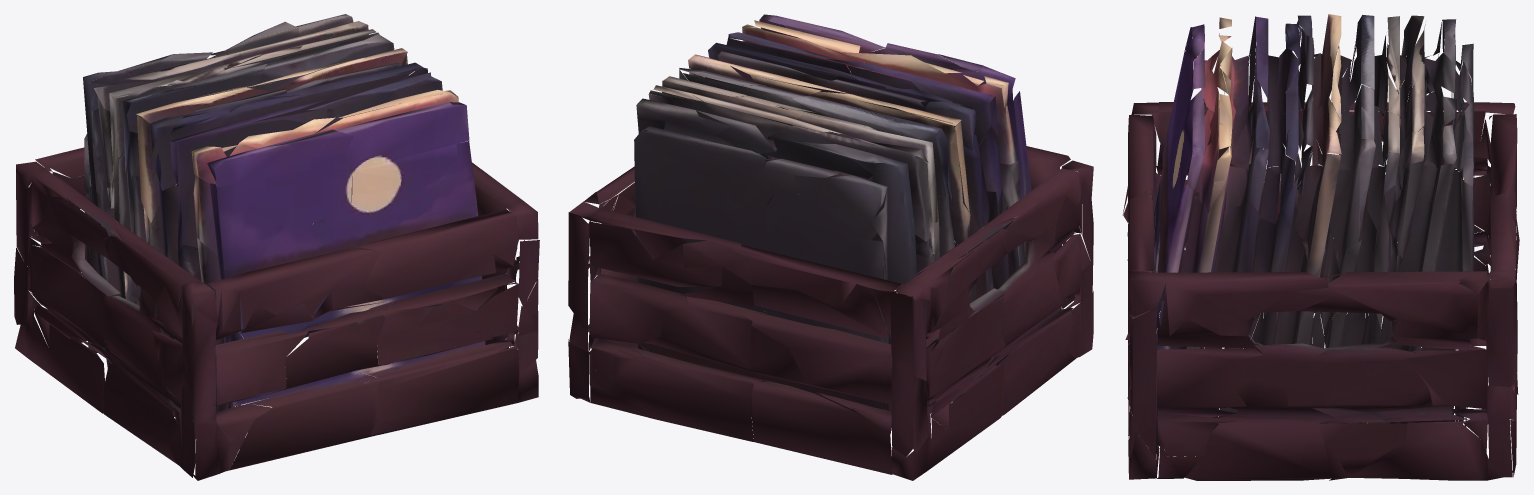
Rendered from vinyl_crate.glb.
3 renders of one model, left to right at view 1: azimuth 30°, elevation 25°; view 2: azimuth 150°, elevation 25°; view 3: azimuth 270°, elevation 25°, orthographic. The views are drawn at different scales.
Parts seen in each view (by area): view 1: tripo_node_80032b37-c0cf-483d-9a40-2ff980cbf5e0; view 2: tripo_node_80032b37-c0cf-483d-9a40-2ff980cbf5e0; view 3: tripo_node_80032b37-c0cf-483d-9a40-2ff980cbf5e0.
Boxes of the visible parts, box(x1,y1,x2,y2) form: tripo_node_80032b37-c0cf-483d-9a40-2ff980cbf5e0: box(14, 14, 539, 480); tripo_node_80032b37-c0cf-483d-9a40-2ff980cbf5e0: box(568, 14, 1093, 480); tripo_node_80032b37-c0cf-483d-9a40-2ff980cbf5e0: box(1122, 14, 1519, 480).
Size of the model in its own units: 0.42 by 0.3376 by 0.3866.
1 material, 1 textured.
